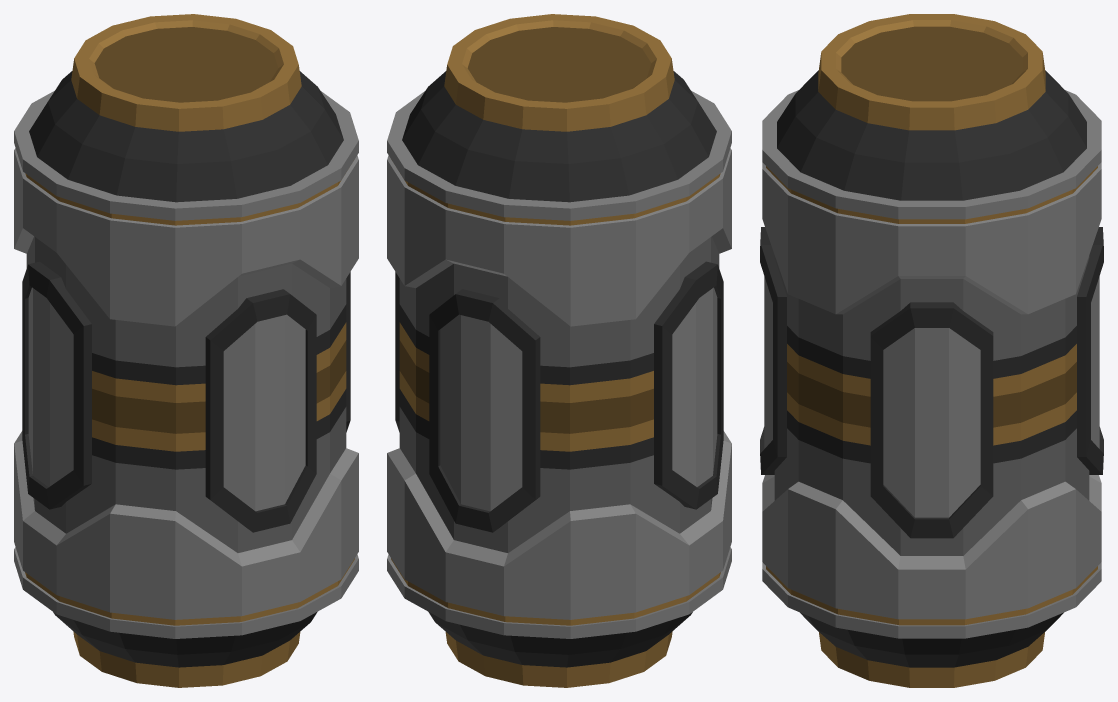
3 renders of one model, left to right at view 1: azimuth 30°, elevation 25°; view 2: azimuth 150°, elevation 25°; view 3: azimuth 270°, elevation 25°, orthographic.
Visible parts, largest first — view 1: capsule; view 2: capsule; view 3: capsule.
Boxes of the visible parts, x1,y1,x2,y2 form: capsule: (14, 14, 358, 687); capsule: (387, 14, 731, 687); capsule: (760, 14, 1103, 687).
Size of the model in its own units: 1.23 by 2.3 by 1.23.
